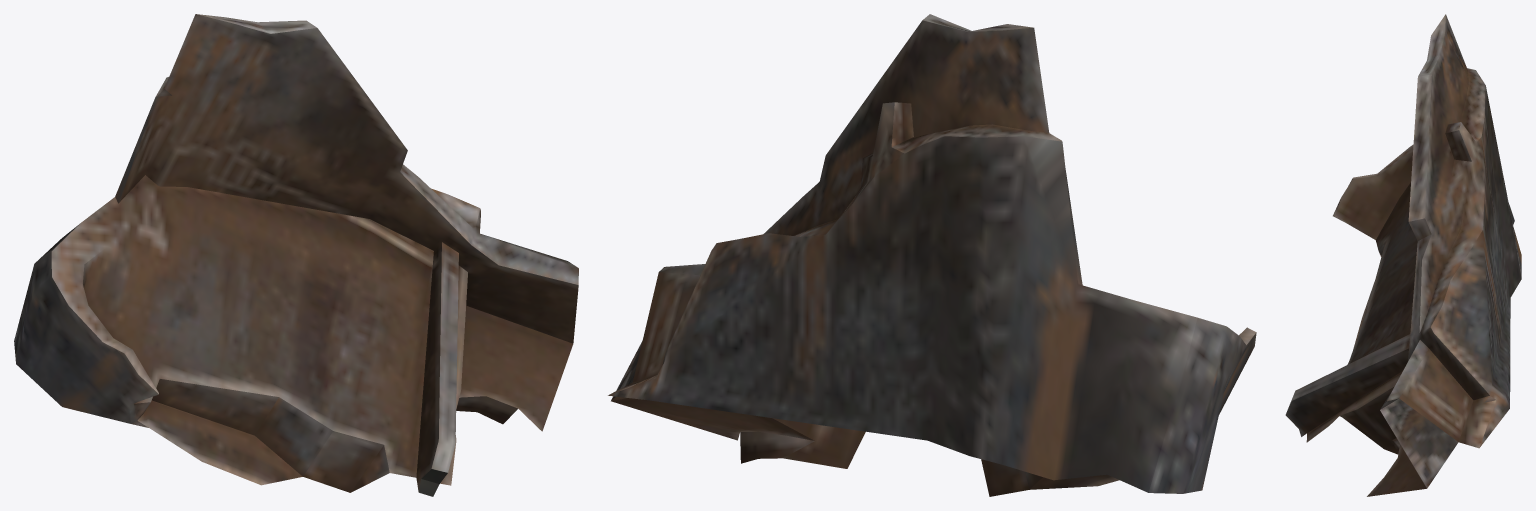
File: plane_wreckage_debris_06.dae
The picture shows the model from 3 angles, left to right: view 1: azimuth 30°, elevation 25°; view 2: azimuth 150°, elevation 25°; view 3: azimuth 270°, elevation 25°; orthographic projection. The views are drawn at different scales.
Parts seen in each view (by area): view 1: plane_wreckage_debris_06a; view 2: plane_wreckage_debris_06a; view 3: plane_wreckage_debris_06a.
Part boxes in pixels (x1,y1,x2,y2): plane_wreckage_debris_06a: (14, 14, 578, 496); plane_wreckage_debris_06a: (608, 14, 1256, 496); plane_wreckage_debris_06a: (1285, 14, 1521, 496).
Bounding box in the file's own units: 116 × 97.16 × 56.15.
